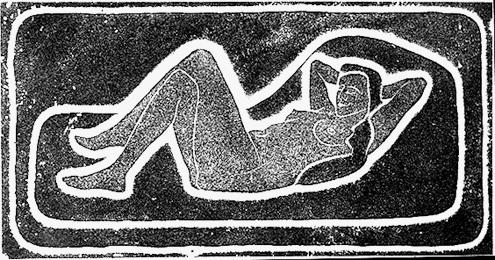person: (53, 51, 432, 197)
